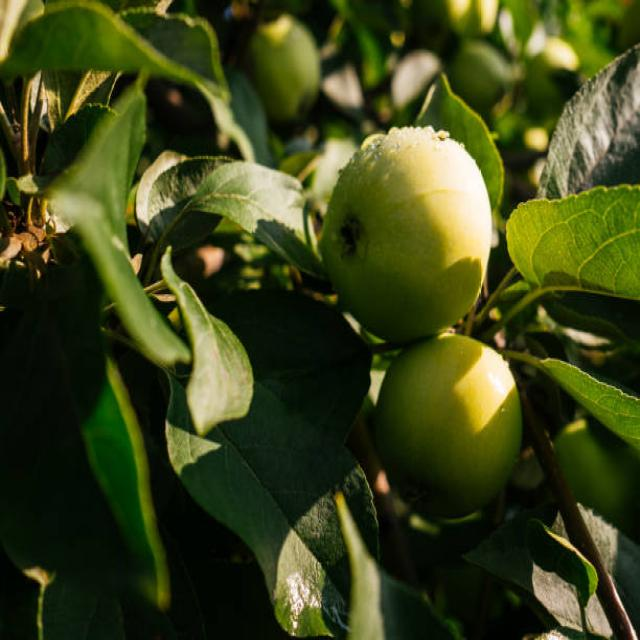Unripe: (318, 124, 494, 341), (376, 338, 524, 517)
